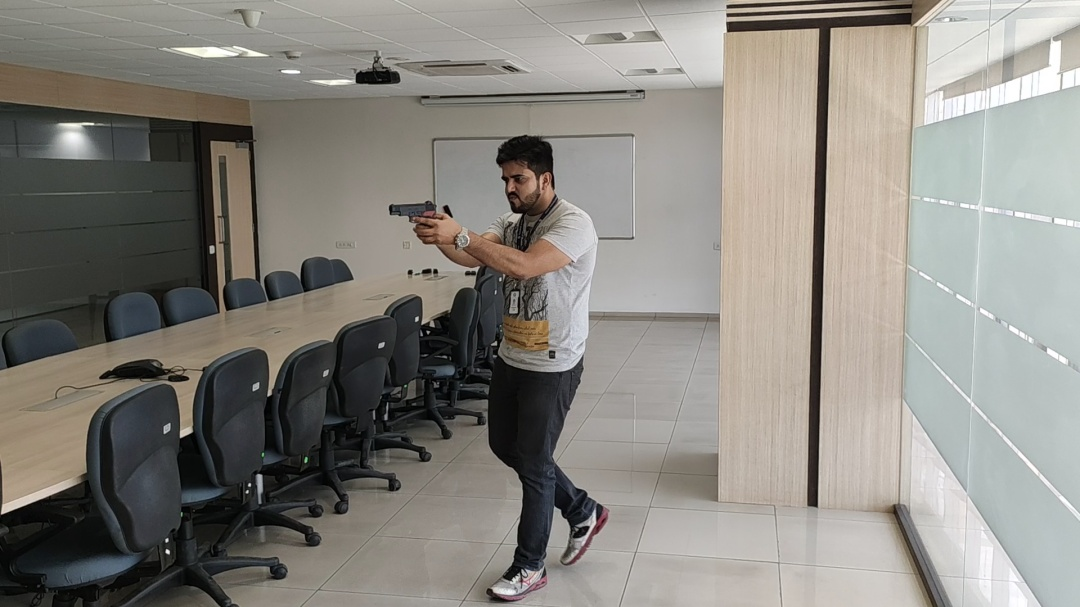gun: (389, 201, 437, 223)
